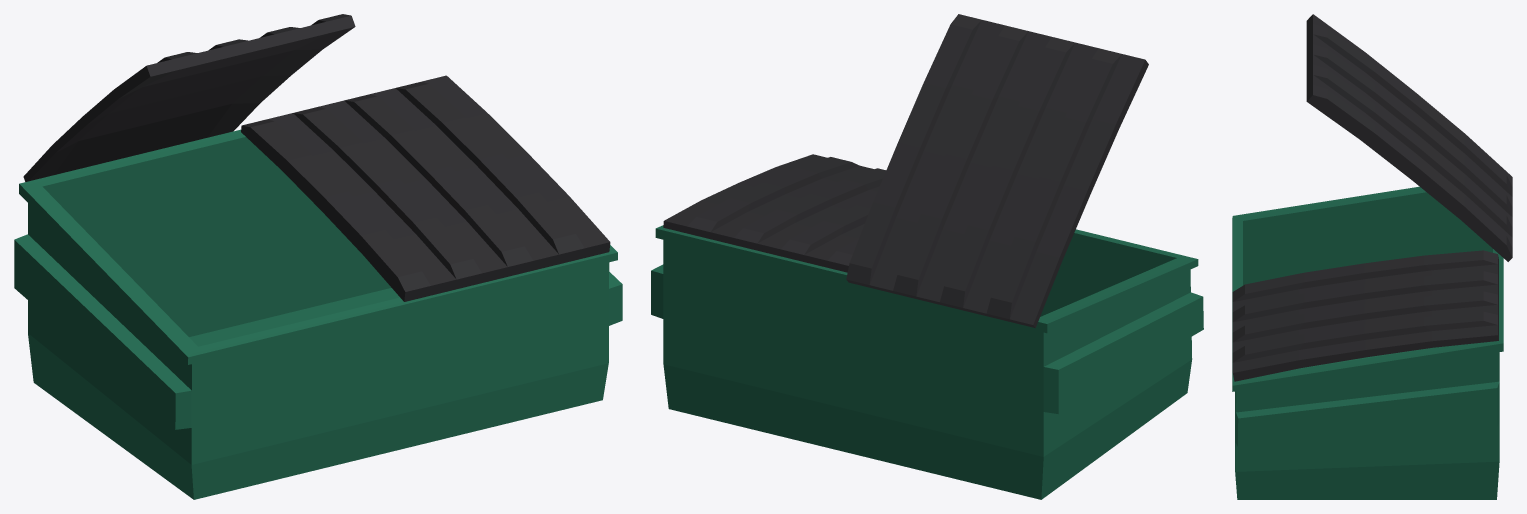
File: dumpster.fbx
3 views of the same model, side by side, from view 1: azimuth 30°, elevation 25°; view 2: azimuth 150°, elevation 25°; view 3: azimuth 270°, elevation 25° (orthographic). The views are drawn at different scales.
Parts seen in each view (by area): view 1: Base, Lid.002, Lid.001; view 2: Base, Lid.001, Lid.002; view 3: Base, Lid.002, Lid.001.
Part boxes in pixels (box(x1,y1,x2,y2)): Base: box(14, 129, 622, 499); Lid.002: box(241, 75, 610, 301); Lid.001: box(23, 14, 355, 181); Base: box(651, 225, 1203, 499); Lid.001: box(846, 14, 1148, 327); Lid.002: box(663, 154, 886, 272); Base: box(1232, 186, 1503, 499); Lid.002: box(1232, 250, 1498, 381); Lid.001: box(1306, 14, 1512, 261).
Size of the model in its own units: 601 by 513 by 402.
